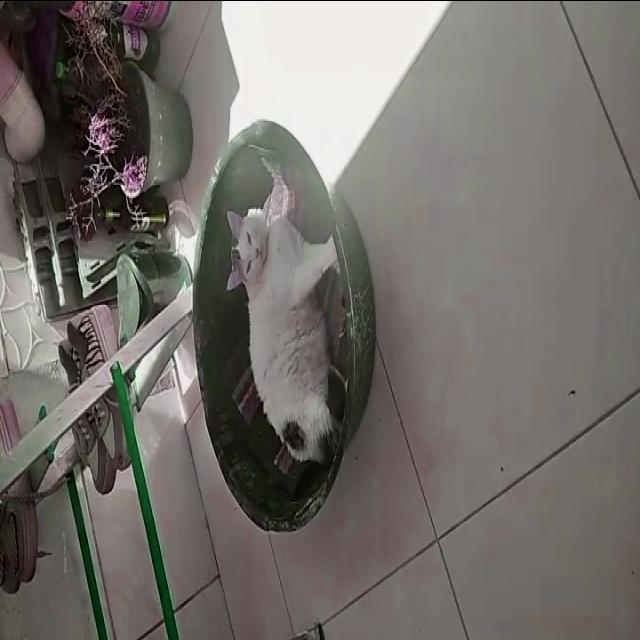Simba: (224, 155, 336, 462)
